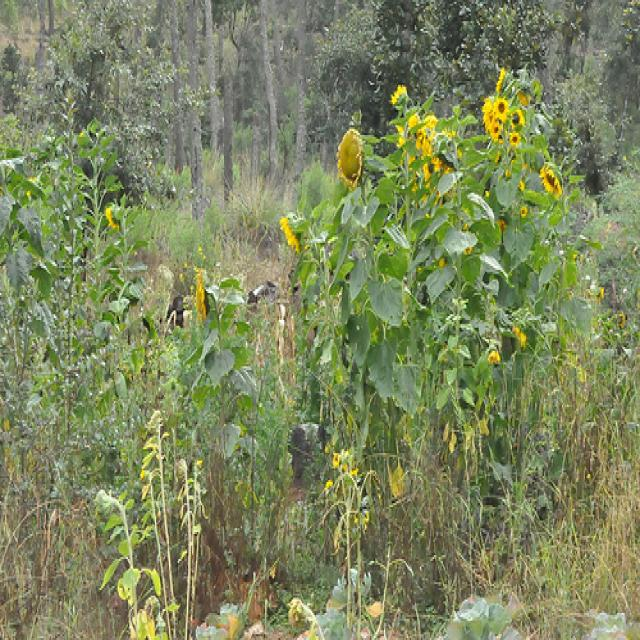sunflower: (276, 210, 309, 262), (537, 168, 568, 198), (492, 96, 511, 124)
